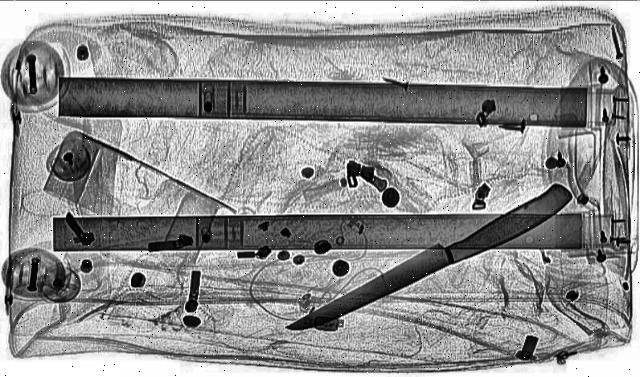Knife: (274, 181, 590, 339)
